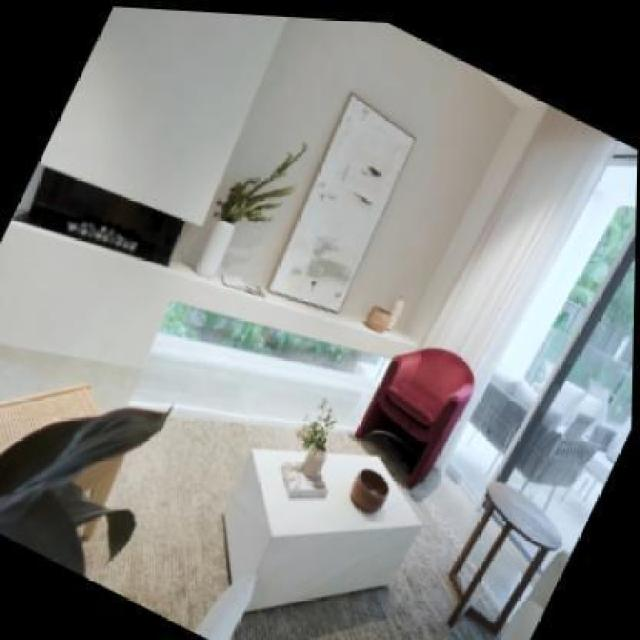tables: (220, 446, 422, 612)
